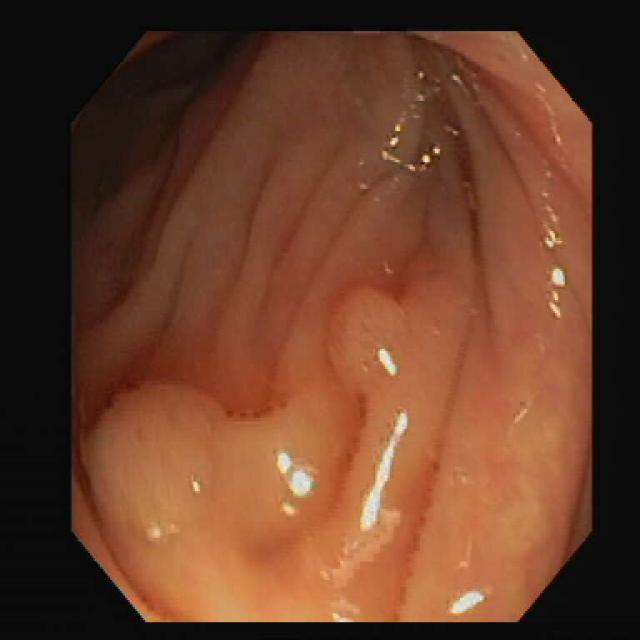tumor: (83, 380, 351, 567), (337, 287, 400, 371)
